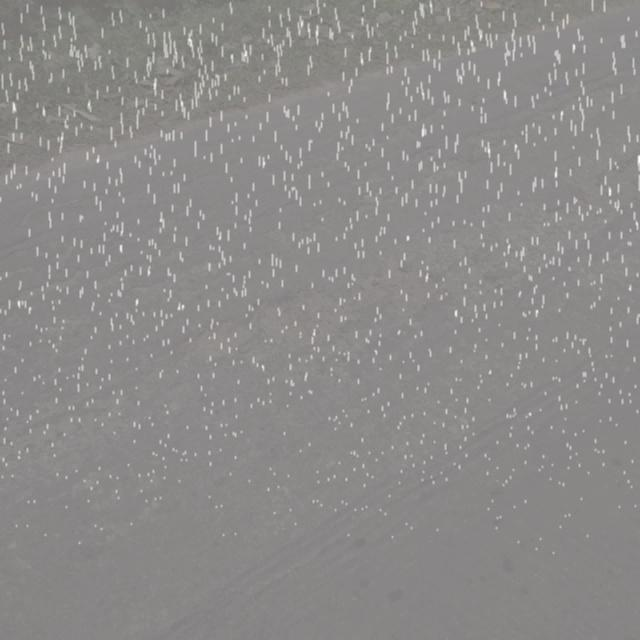Pothole: (168, 257, 418, 368)
